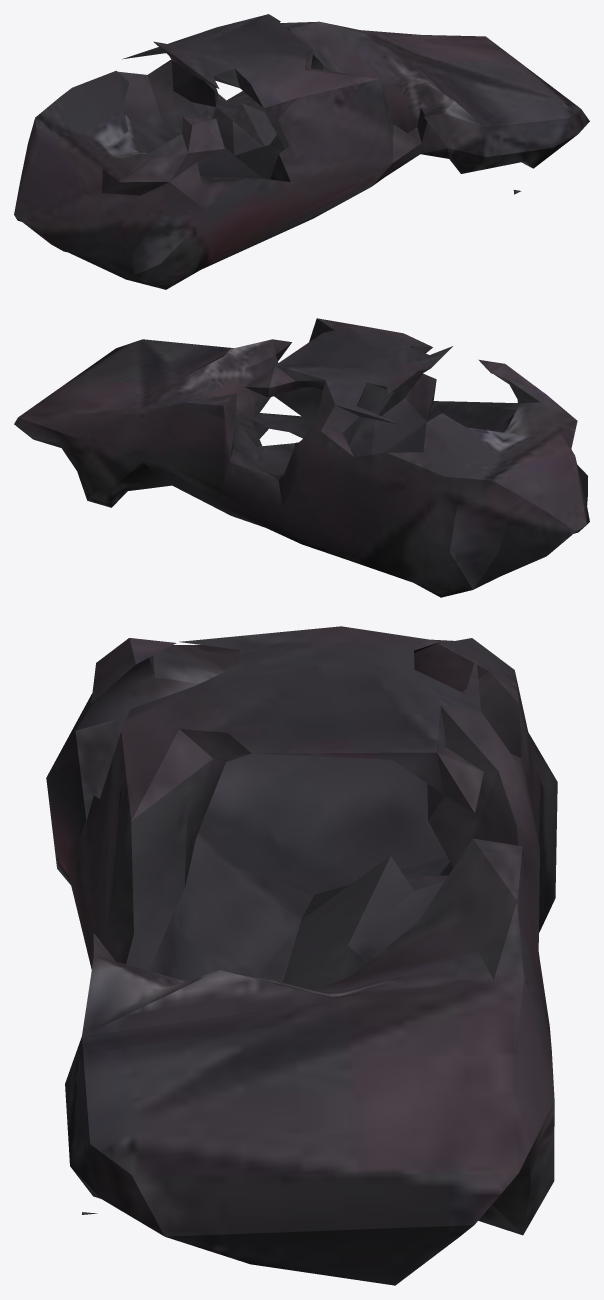
File: bg_wasteland_wreck_1_lod1.glb
3 renders of one model, top to bottom at view 1: azimuth 30°, elevation 25°; view 2: azimuth 150°, elevation 25°; view 3: azimuth 270°, elevation 25°, orthographic. The views are drawn at different scales.
Visible parts, largest first — view 1: body; view 2: body; view 3: body.
Boxes of the visible parts, <box> form: body: <box>14,14,589,289</box>; body: <box>14,318,589,597</box>; body: <box>46,626,557,1285</box>.
Size of the model in its own units: 4.03 by 1.29 by 1.68.
Materials: 1 (1 with a texture image).
